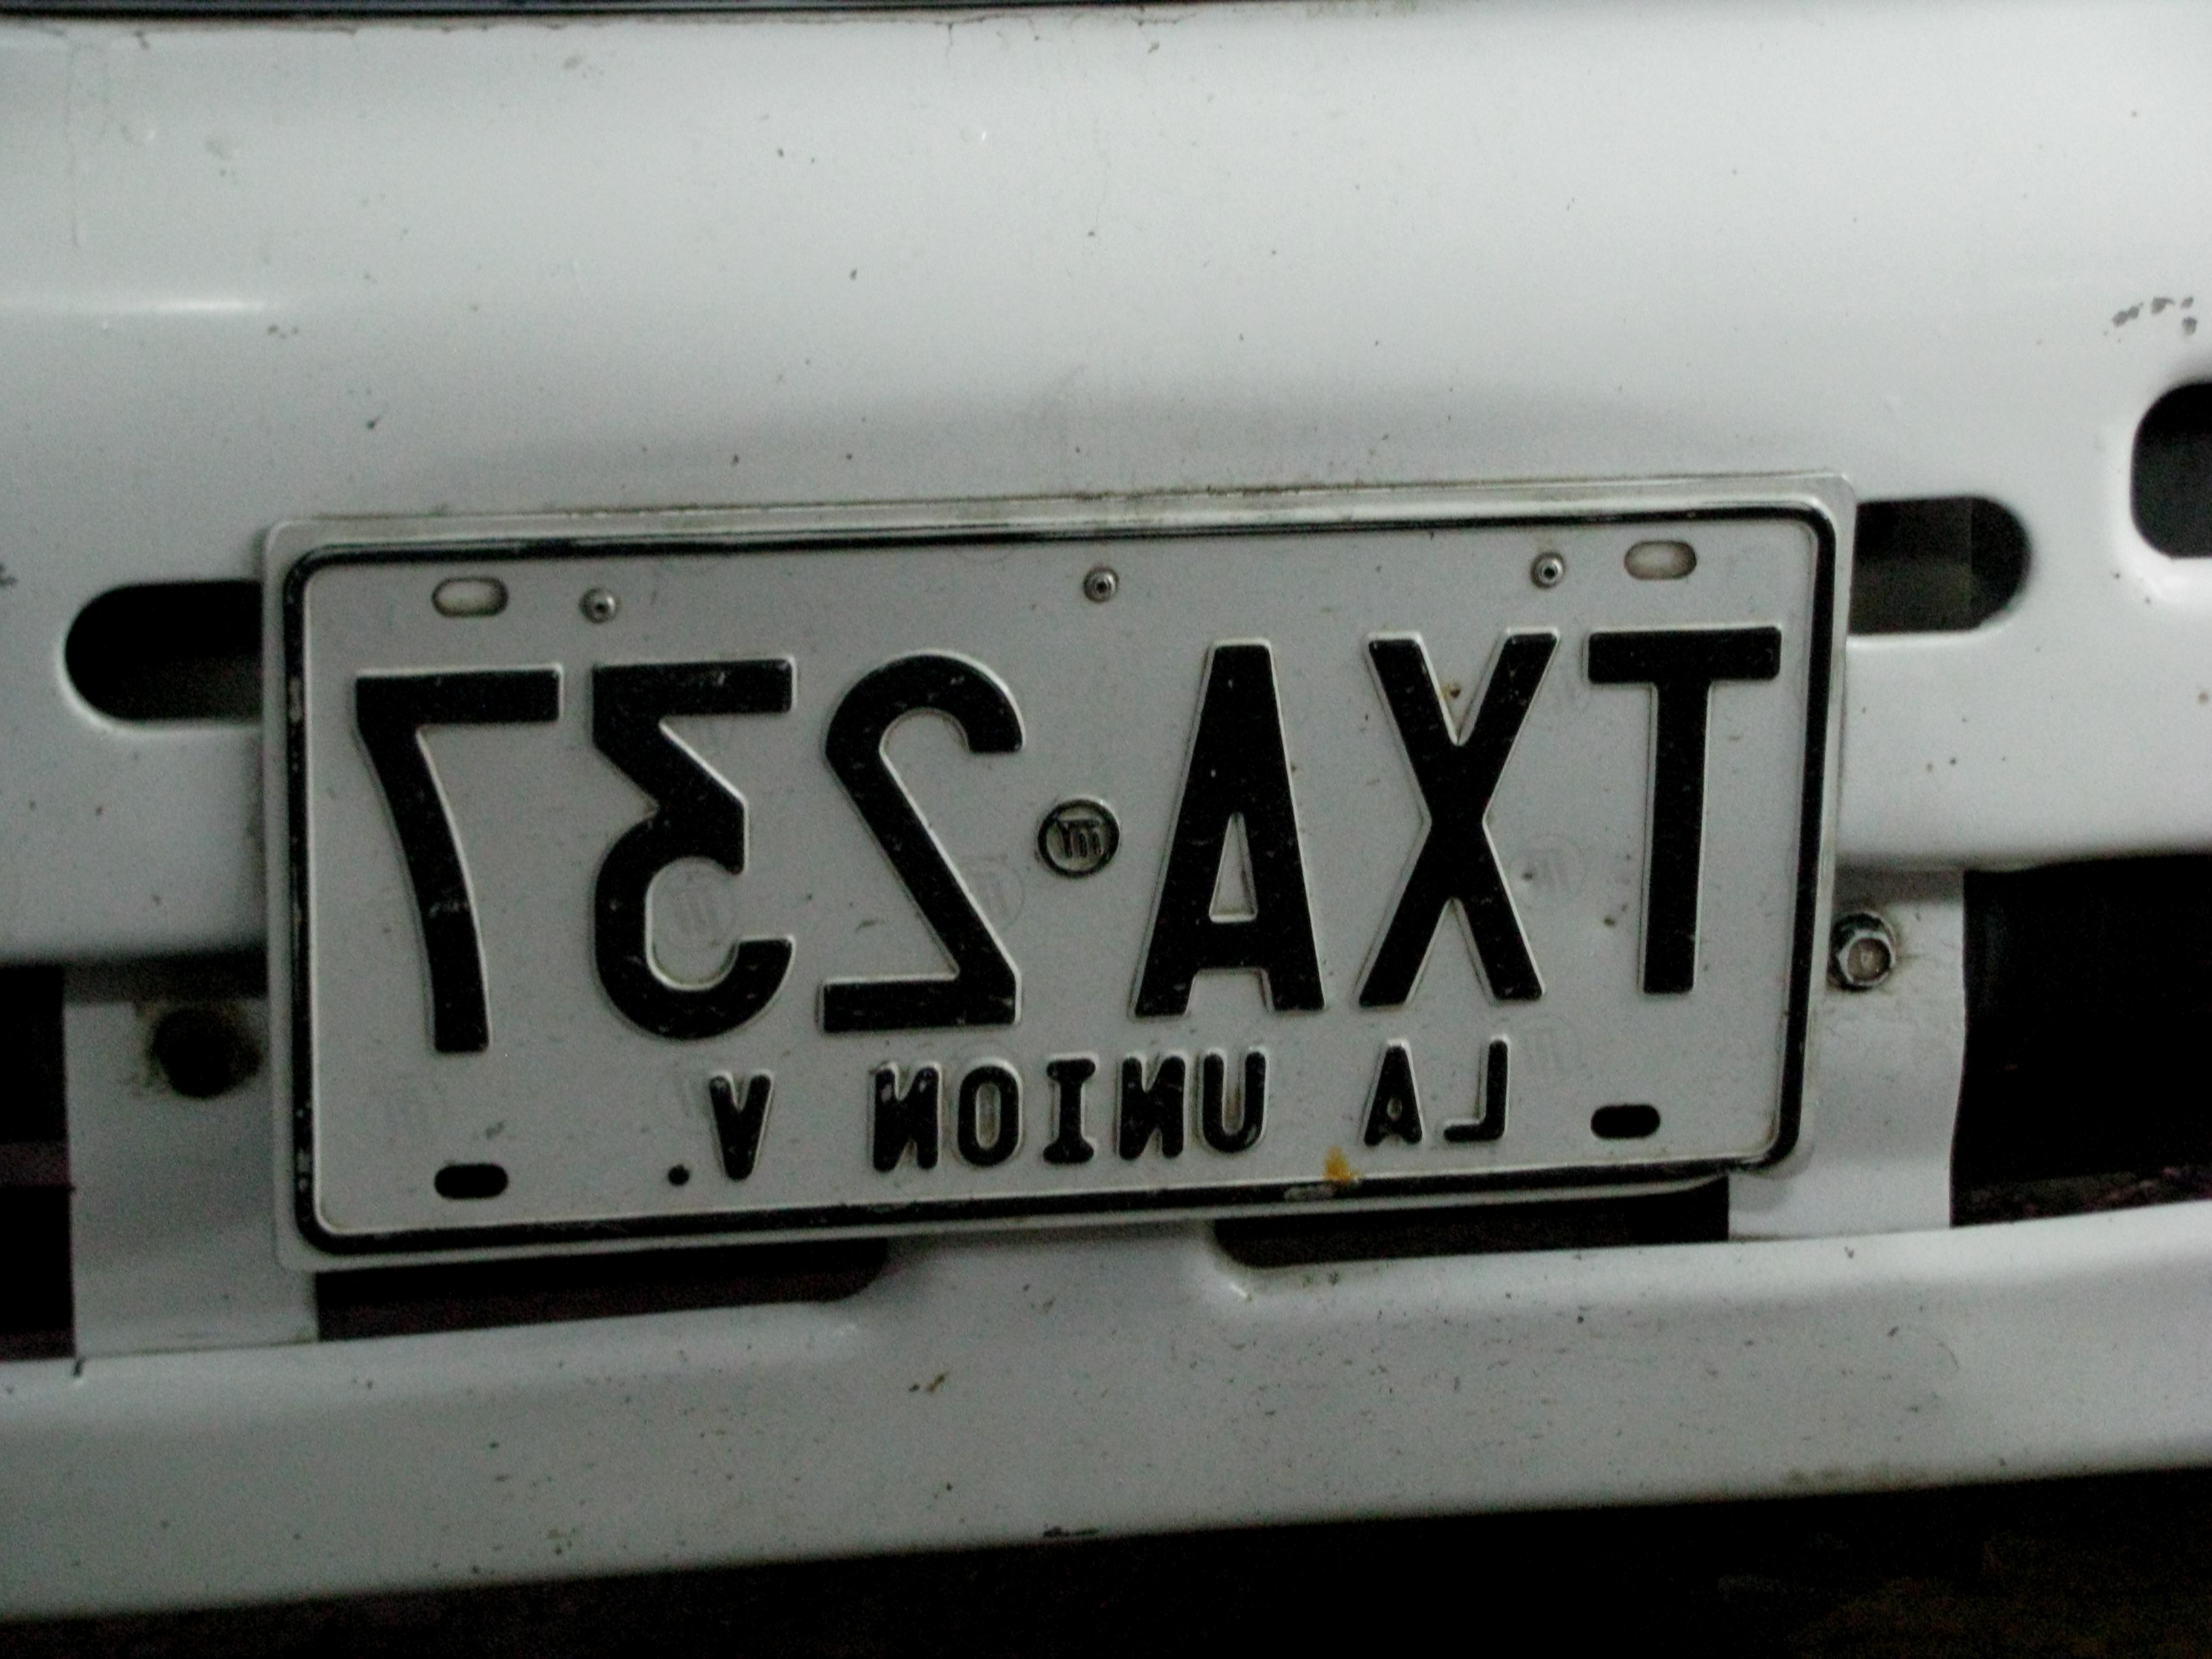placas: (255, 460, 1869, 1283)
